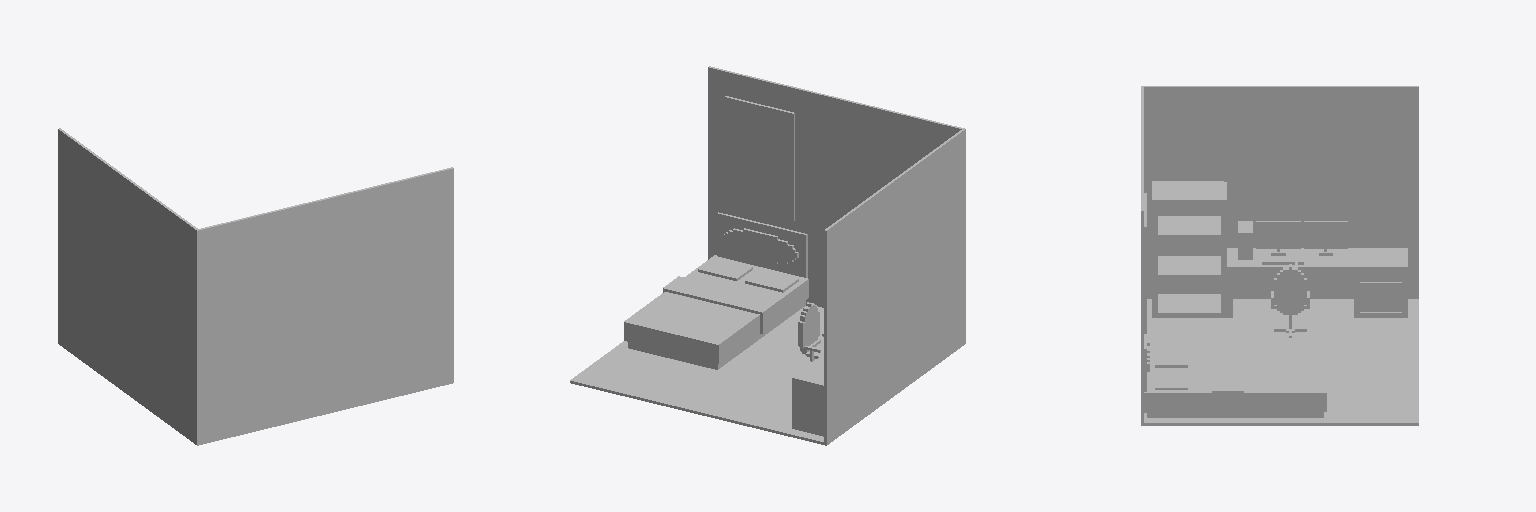
The model's file is escenario.obj.
3 views of the same model, side by side, from view 1: azimuth 30°, elevation 25°; view 2: azimuth 150°, elevation 25°; view 3: azimuth 270°, elevation 25° (orthographic).
Visible parts, largest first — view 1: object 1; view 2: object 1; view 3: object 1.
Boxes of the visible parts, box(x1,y1,x2,y2) form: object 1: box(58, 128, 453, 445); object 1: box(570, 66, 965, 445); object 1: box(1141, 86, 1418, 425).
Size of the model in its own units: 10 by 8 by 9.4.